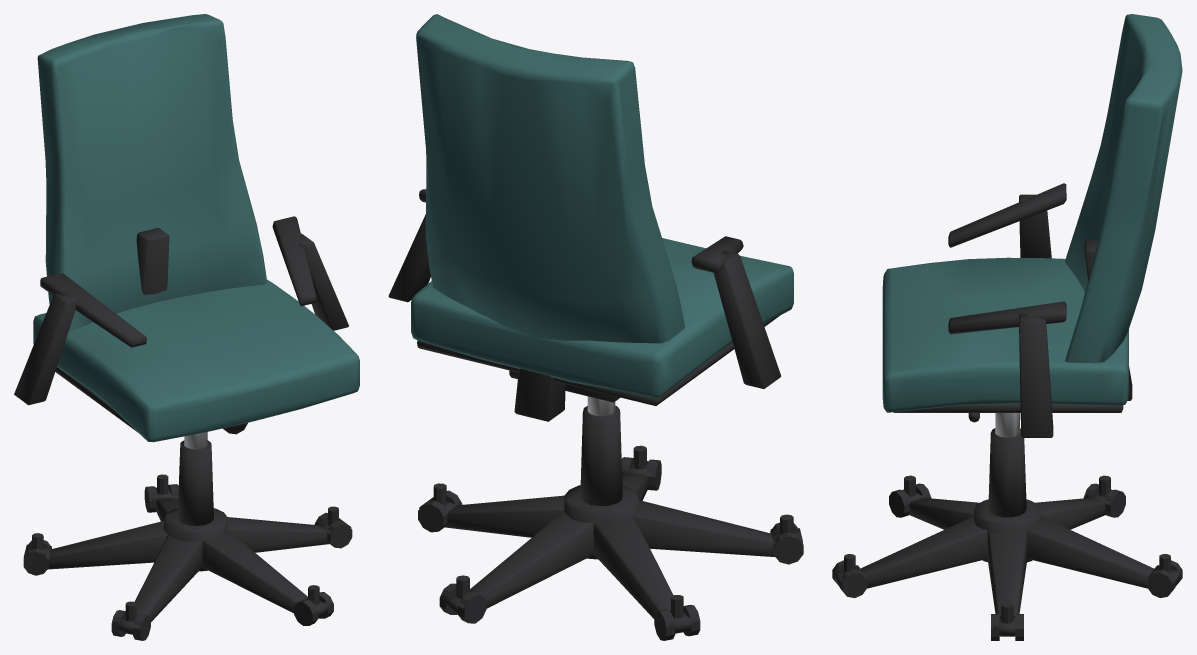
File: task-chair-low.glb
3 renders of one model, left to right at view 1: azimuth 30°, elevation 25°; view 2: azimuth 150°, elevation 25°; view 3: azimuth 270°, elevation 25°, orthographic. The views are drawn at different scales.
Parts seen in each view (by area): view 1: TaskChair.001; view 2: TaskChair.001; view 3: TaskChair.001.
Boxes of the visible parts, left/top/right/bottom form: TaskChair.001: left=14, top=14, right=359, bottom=640; TaskChair.001: left=388, top=14, right=803, bottom=640; TaskChair.001: left=832, top=14, right=1182, bottom=640.
Bounding box in the file's own units: 0.7005 × 1.03 × 0.6345.
